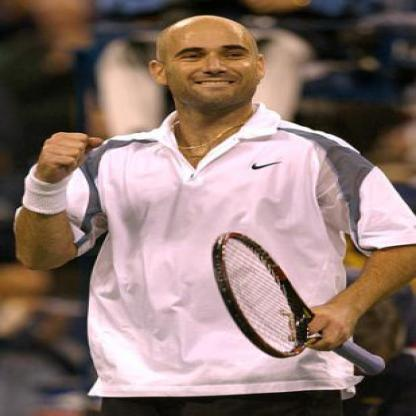face: (161, 17, 262, 111)
